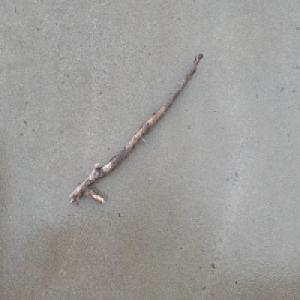Wood: (67, 50, 205, 206)
